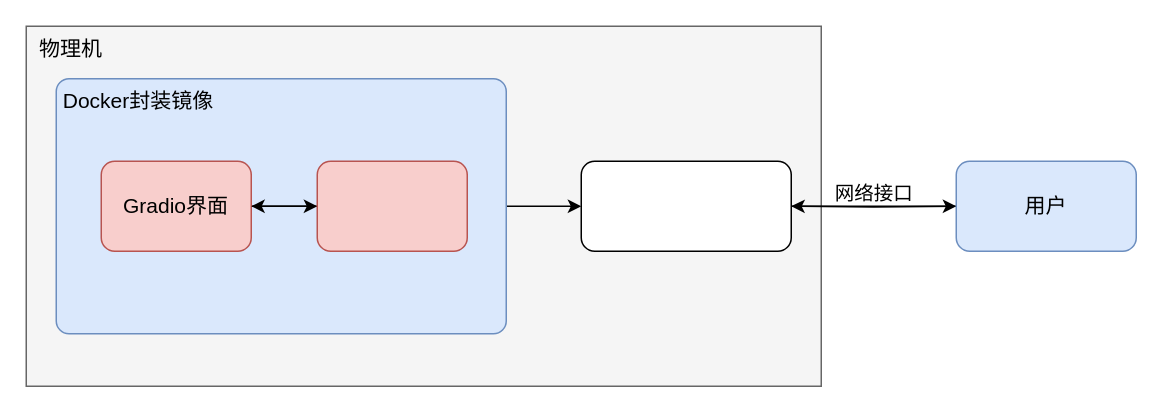
Some shapes in this 1163 by 413 pixel diagram are drawn without their labels. Each missing label, with the box of its shape:
Docker容器: (580, 160, 791, 251)
Ultralytics 检测框架: (316, 160, 467, 251)
